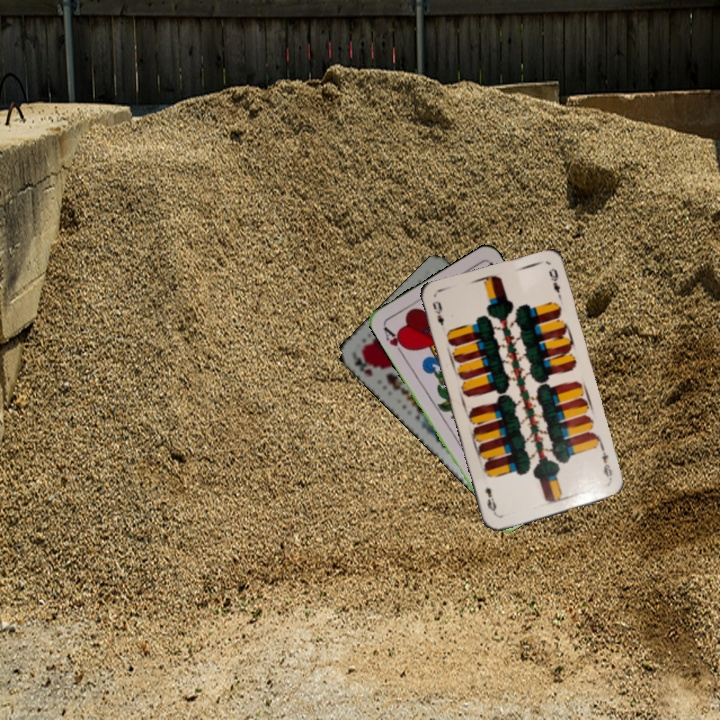E9: (597, 444, 615, 485), (428, 297, 447, 328)
HA: (379, 322, 411, 358)
HK: (350, 348, 375, 379)
